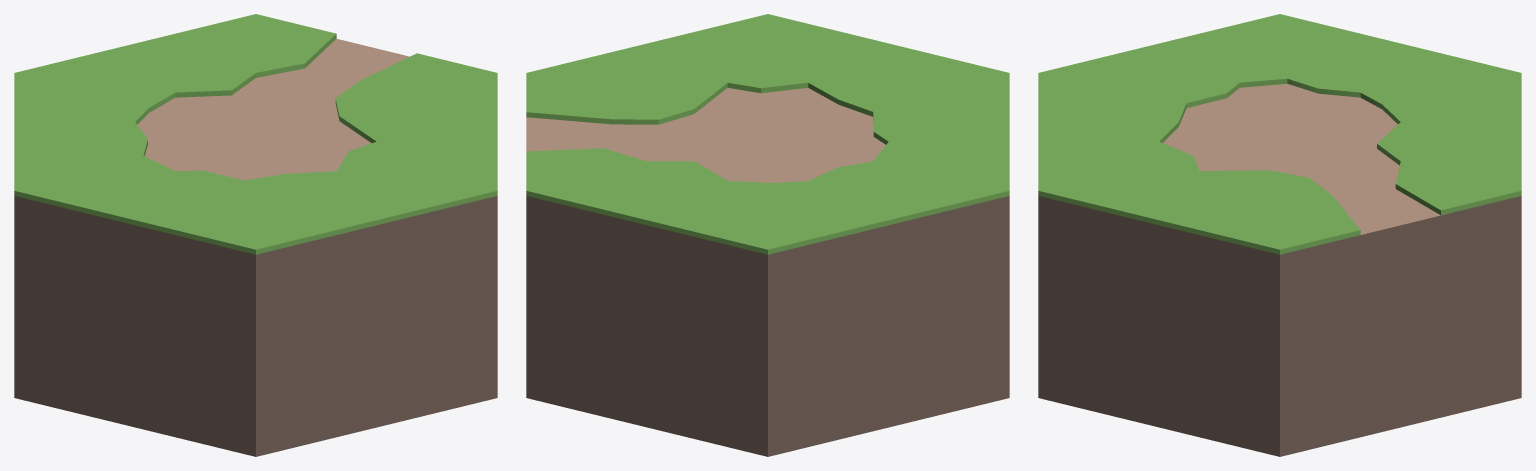
The model's file is tile_road07.fbx.
3 renders of one model, left to right at view 1: azimuth 30°, elevation 25°; view 2: azimuth 150°, elevation 25°; view 3: azimuth 270°, elevation 25°, orthographic.
Visible parts, largest first — view 1: Tile_Road1; view 2: Tile_Road1; view 3: Tile_Road1.
Boxes of the visible parts, x1,y1,x2,y2 form: Tile_Road1: (14, 14, 497, 456); Tile_Road1: (526, 14, 1009, 456); Tile_Road1: (1038, 14, 1521, 456).
Bounding box in the file's own units: 2 × 0.82 × 1.73.
